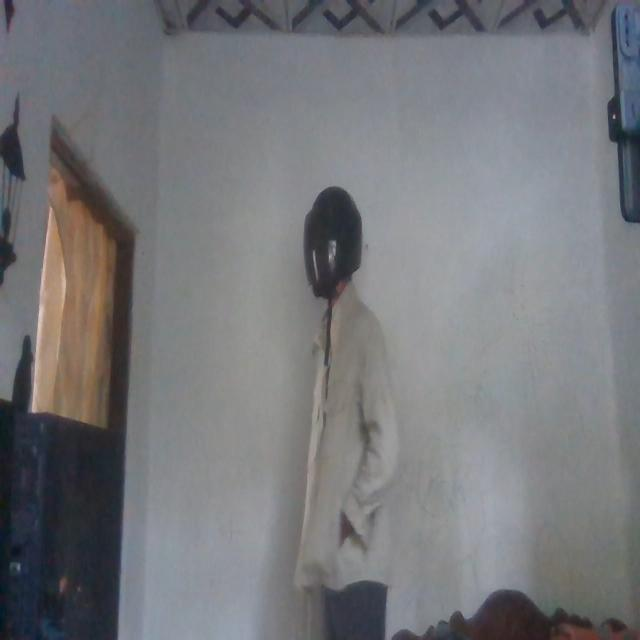Helmet_Wearer: (303, 191, 368, 305)
Jacket_Wearer: (298, 281, 396, 610)
Person: (293, 178, 395, 640)
